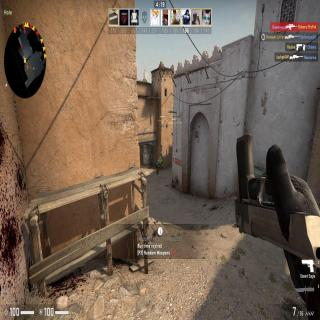CT-Body: (156, 160, 159, 173), (150, 154, 152, 166)
CT-Head: (157, 161, 159, 164), (150, 154, 151, 157)
